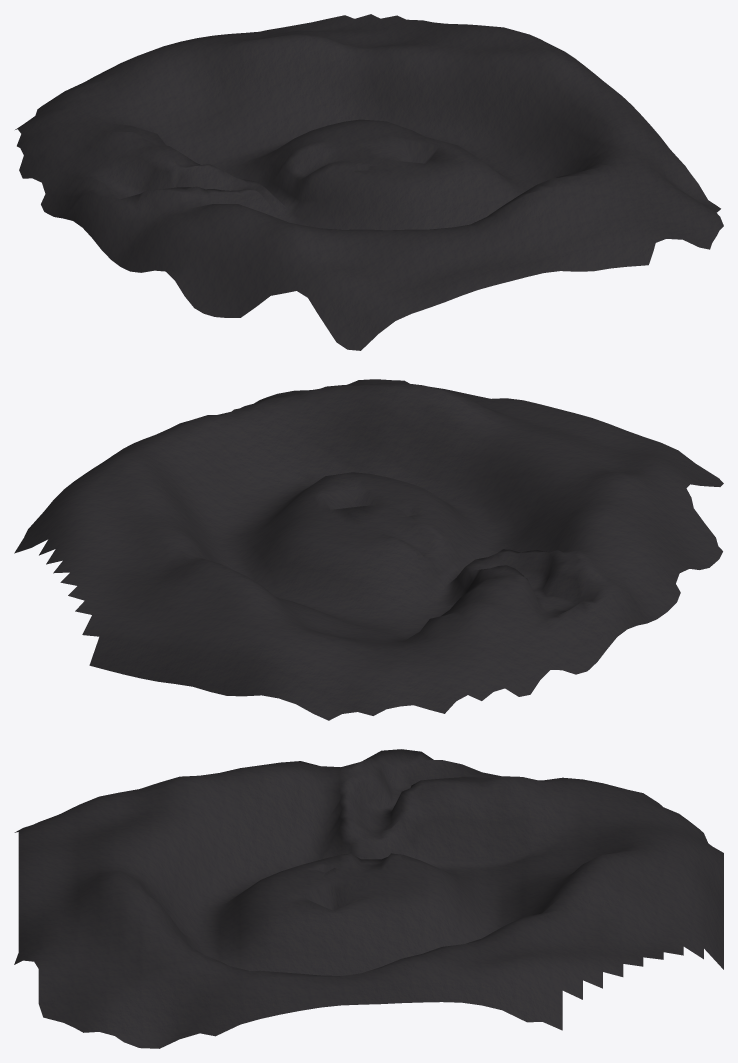
File: groundsnow.obj
3 views of the same model, one above another, from view 1: azimuth 30°, elevation 25°; view 2: azimuth 150°, elevation 25°; view 3: azimuth 270°, elevation 25° (orthographic). The views are drawn at different scales.
Parts seen in each view (by area): view 1: snowterrain08:Mesh2 snowterrain08:polySurface2 snowterrain08:pol; view 2: snowterrain08:Mesh2 snowterrain08:polySurface2 snowterrain08:pol; view 3: snowterrain08:Mesh2 snowterrain08:polySurface2 snowterrain08:pol.
Boxes of the visible parts, x1,y1,x2,y2 form: snowterrain08:Mesh2 snowterrain08:polySurface2 snowterrain08:pol: (15, 14, 723, 350); snowterrain08:Mesh2 snowterrain08:polySurface2 snowterrain08:pol: (14, 379, 723, 720); snowterrain08:Mesh2 snowterrain08:polySurface2 snowterrain08:pol: (14, 749, 723, 1048).
Bounding box in the file's own units: 238 × 31.17 × 268.
1 material, 1 textured.
